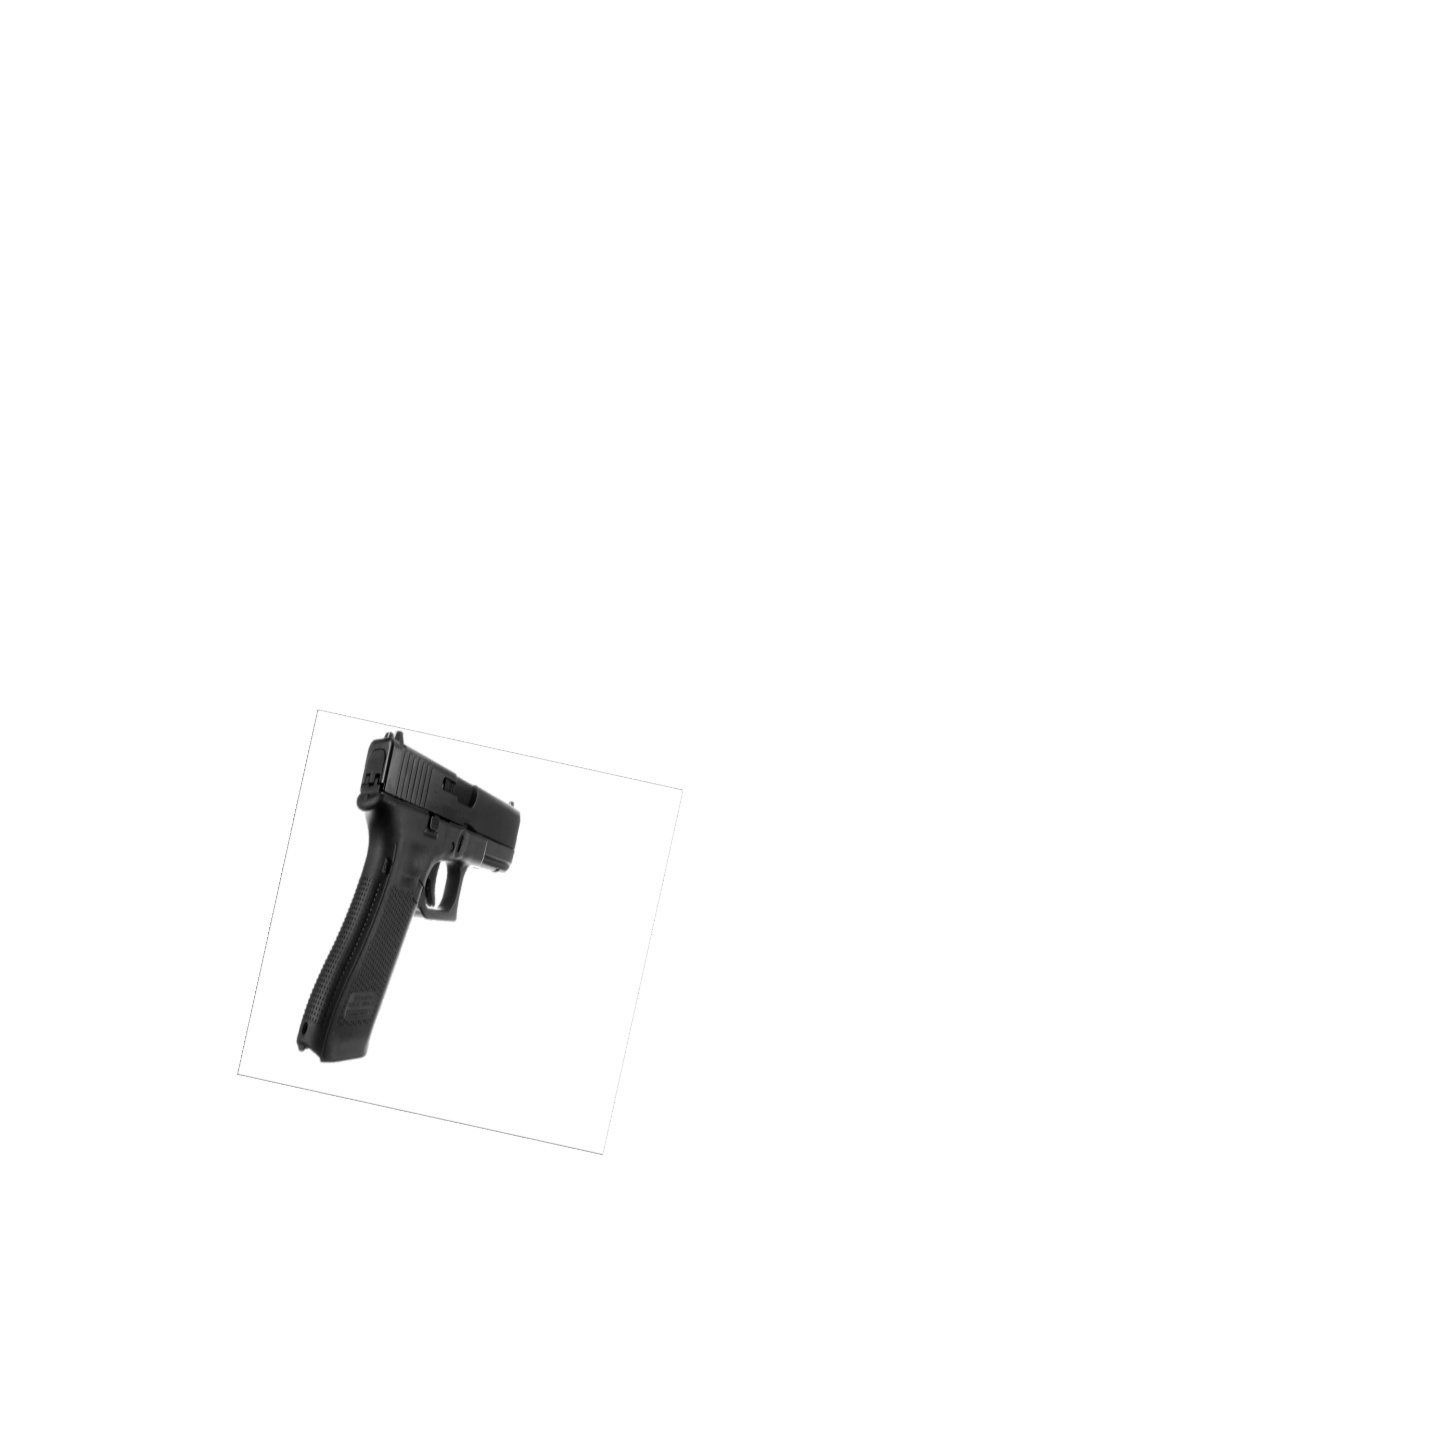gun: (296, 732, 520, 1061)
